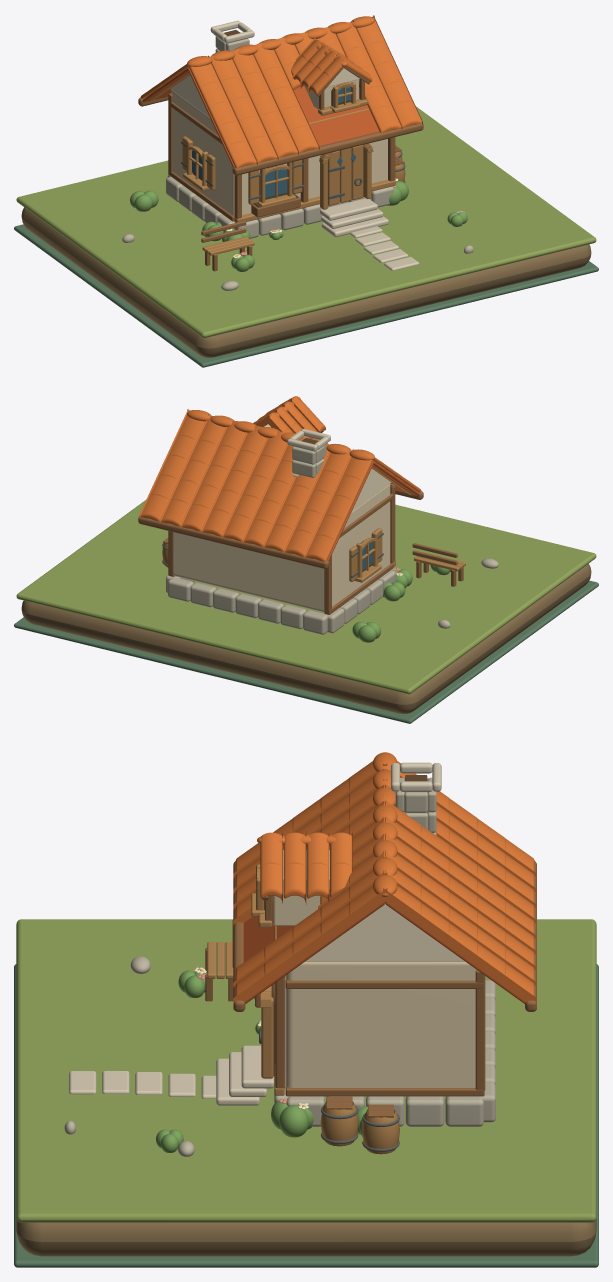
Rendered from cottage-study.glb.
3 renders of one model, top to bottom at view 1: azimuth 30°, elevation 25°; view 2: azimuth 150°, elevation 25°; view 3: azimuth 270°, elevation 25°, orthographic. The views are drawn at different scales.
Parts seen in each view (by area): view 1: Cottage_ground, Cottage_clay, Cottage_earth, Cottage_oak_light, Cottage_oak, Cottage_rim, Cottage_plaster, Cottage_stone_light, Cottage_stone, Cottage_clay_dark, Cottage_leaf, Cottage_plaster_light (+1 smaller); view 2: Cottage_ground, Cottage_clay, Cottage_earth, Cottage_plaster, Cottage_stone, Cottage_rim, Cottage_oak, Cottage_oak_light, Cottage_leaf, Cottage_clay_dark, Cottage_plaster_light, Cottage_stone_light; view 3: Cottage_ground, Cottage_clay, Cottage_plaster, Cottage_earth, Cottage_rim, Cottage_oak, Cottage_stone, Cottage_stone_light, Cottage_oak_light, Cottage_plaster_light, Cottage_leaf, Cottage_clay_dark.
Part boxes in pixels (x1,y1,x2,y2): Cottage_ground: (16, 106, 596, 337); Cottage_clay: (140, 15, 422, 168); Cottage_earth: (21, 207, 591, 357); Cottage_oak_light: (148, 68, 405, 255); Cottage_oak: (138, 66, 423, 271); Cottage_rim: (14, 224, 598, 367); Cottage_plaster: (171, 79, 387, 215); Cottage_stone_light: (210, 20, 419, 270); Cottage_stone: (122, 32, 473, 290); Cottage_clay_dark: (142, 68, 379, 167); Cottage_leaf: (130, 181, 467, 271); Cottage_plaster_light: (171, 68, 359, 117); Cottage_ground: (16, 500, 596, 694); Cottage_clay: (139, 396, 421, 561); Cottage_earth: (21, 563, 591, 713); Cottage_plaster: (173, 424, 390, 612); Cottage_stone: (166, 440, 498, 634); Cottage_rim: (14, 580, 598, 723); Cottage_oak: (138, 430, 463, 614); Cottage_oak_light: (162, 461, 465, 582); Cottage_leaf: (352, 565, 450, 642); Cottage_clay_dark: (327, 461, 419, 560); Cottage_plaster_light: (352, 469, 391, 511); Cottage_stone_light: (287, 429, 330, 451); Cottage_ground: (16, 919, 596, 1222); Cottage_clay: (233, 752, 536, 1009); Cottage_plaster: (273, 850, 476, 1087); Cottage_earth: (16, 1218, 596, 1256); Cottage_rim: (14, 964, 598, 1267); Cottage_oak: (205, 861, 536, 1117); Cottage_stone: (64, 777, 495, 1156); Cottage_stone_light: (69, 762, 441, 1105); Cottage_oak_light: (207, 864, 399, 1154); Cottage_plaster_light: (305, 903, 464, 961); Cottage_leaf: (156, 970, 367, 1152); Cottage_clay_dark: (243, 901, 525, 1003).
Bounding box in the file's own units: 17.12 × 8.46 × 14.12.
